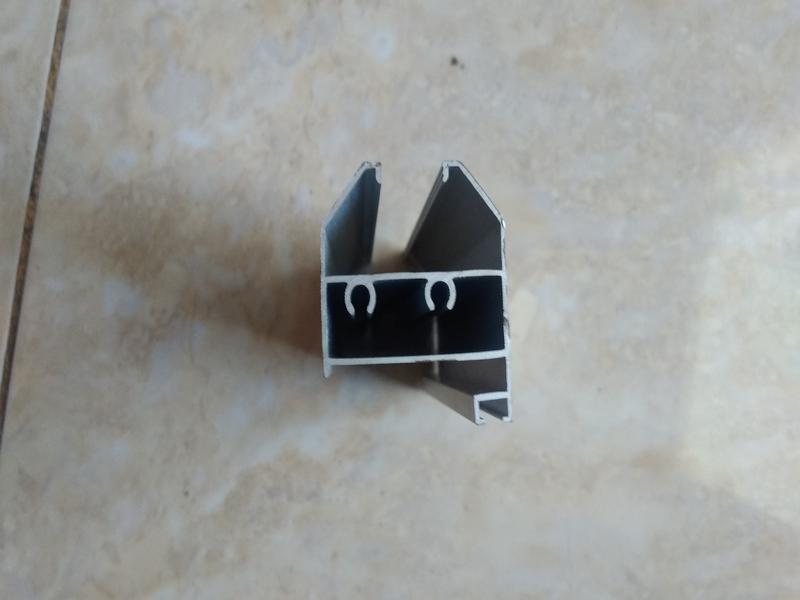Aluminium_3: (269, 138, 561, 447)
